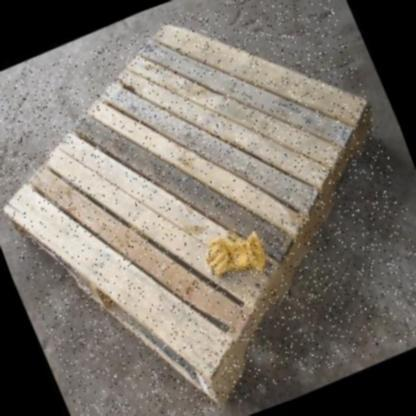pallet: (11, 25, 376, 408)
